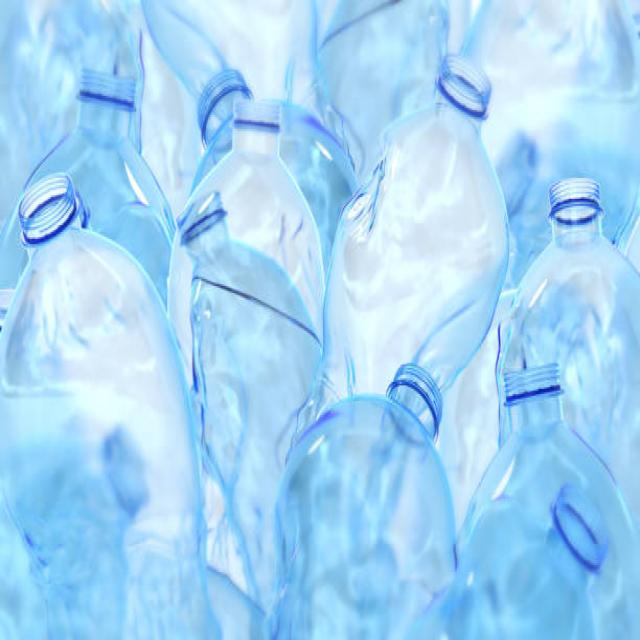plastic: (3, 124, 531, 570)
